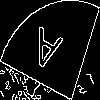A: (25, 25, 64, 82)
